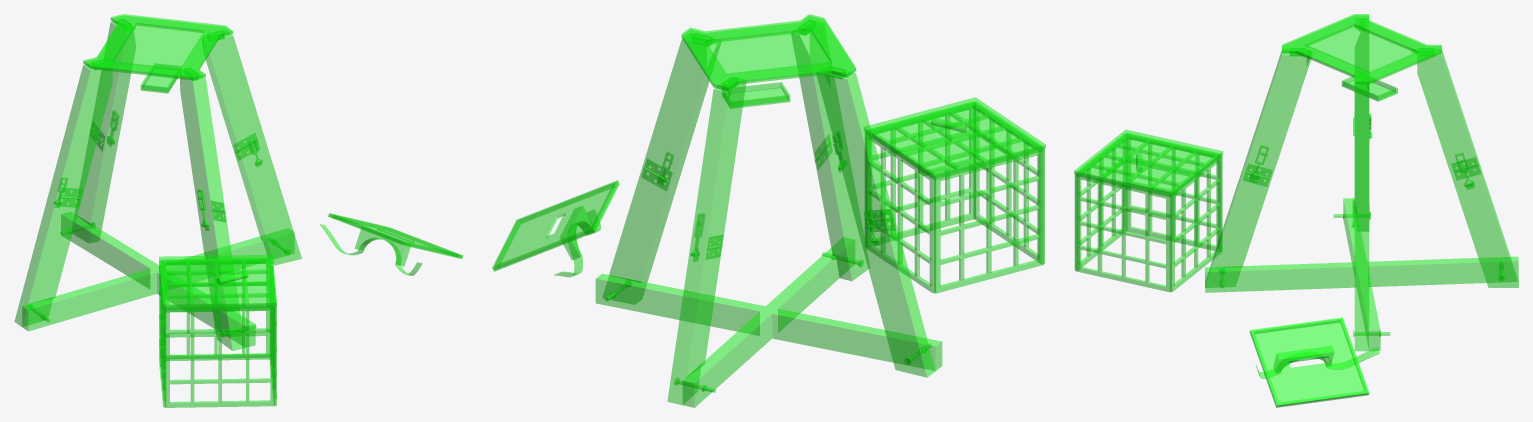
File: alec.glb
3 views of the same model, side by side, from view 1: azimuth 30°, elevation 25°; view 2: azimuth 150°, elevation 25°; view 3: azimuth 270°, elevation 25° (orthographic). The views are drawn at different scales.
Parts seen in each view (by area): view 1: ply, crate, d1854366-ecdb-4a84-81c8-51e3d519978d, 76a04a2c-8170-404c-9d7f-99efb4fca5f9, 99e77529-c2b8-48d0-abc9-7c0c0a538e59, be001d6a-c13a-4f7c-8af5-d5b3ada92719, 5b95803f-de43-4d44-ab4c-4a6e17fb4ca6, magnifying_sheet, everything_else, hinge_+_clamp_+_bolts, 8565a5d7-12cd-45e8-b316-61662c950a18; view 2: crate, d1854366-ecdb-4a84-81c8-51e3d519978d, ply, 76a04a2c-8170-404c-9d7f-99efb4fca5f9, 5b95803f-de43-4d44-ab4c-4a6e17fb4ca6, 99e77529-c2b8-48d0-abc9-7c0c0a538e59, be001d6a-c13a-4f7c-8af5-d5b3ada92719, 8565a5d7-12cd-45e8-b316-61662c950a18, magnifying_sheet, everything_else, hinge_+_clamp_+_bolts, magnets; view 3: crate, ply, d1854366-ecdb-4a84-81c8-51e3d519978d, be001d6a-c13a-4f7c-8af5-d5b3ada92719, 5b95803f-de43-4d44-ab4c-4a6e17fb4ca6, 8565a5d7-12cd-45e8-b316-61662c950a18, 99e77529-c2b8-48d0-abc9-7c0c0a538e59, everything_else, magnifying_sheet, 76a04a2c-8170-404c-9d7f-99efb4fca5f9, hinge_+_clamp_+_bolts.
Part boxes in pixels (x1,y1,x2,y2): ply: [83, 14, 276, 307]; crate: [159, 258, 276, 407]; d1854366-ecdb-4a84-81c8-51e3d519978d: [22, 212, 294, 347]; 76a04a2c-8170-404c-9d7f-99efb4fca5f9: [14, 64, 112, 326]; 99e77529-c2b8-48d0-abc9-7c0c0a538e59: [206, 33, 301, 265]; be001d6a-c13a-4f7c-8af5-d5b3ada92719: [180, 77, 245, 350]; 5b95803f-de43-4d44-ab4c-4a6e17fb4ca6: [73, 21, 135, 242]; magnifying_sheet: [113, 23, 203, 69]; everything_else: [320, 213, 463, 275]; hinge_+_clamp_+_bolts: [29, 110, 290, 337]; 8565a5d7-12cd-45e8-b316-61662c950a18: [329, 214, 461, 257]; crate: [865, 101, 1044, 293]; d1854366-ecdb-4a84-81c8-51e3d519978d: [595, 237, 942, 407]; ply: [681, 14, 1045, 177]; 76a04a2c-8170-404c-9d7f-99efb4fca5f9: [816, 72, 935, 377]; 5b95803f-de43-4d44-ab4c-4a6e17fb4ca6: [667, 82, 745, 404]; 99e77529-c2b8-48d0-abc9-7c0c0a538e59: [602, 38, 720, 304]; be001d6a-c13a-4f7c-8af5-d5b3ada92719: [791, 32, 869, 280]; 8565a5d7-12cd-45e8-b316-61662c950a18: [494, 182, 617, 269]; magnifying_sheet: [706, 29, 831, 74]; everything_else: [492, 180, 619, 277]; hinge_+_clamp_+_bolts: [605, 130, 931, 392]; magnets: [692, 20, 844, 91]; crate: [1074, 133, 1222, 292]; ply: [1074, 14, 1441, 195]; d1854366-ecdb-4a84-81c8-51e3d519978d: [1205, 198, 1518, 350]; be001d6a-c13a-4f7c-8af5-d5b3ada92719: [1205, 50, 1310, 287]; 5b95803f-de43-4d44-ab4c-4a6e17fb4ca6: [1412, 50, 1518, 287]; 8565a5d7-12cd-45e8-b316-61662c950a18: [1251, 319, 1367, 406]; 99e77529-c2b8-48d0-abc9-7c0c0a538e59: [1354, 83, 1369, 351]; everything_else: [1249, 317, 1379, 407]; magnifying_sheet: [1306, 25, 1417, 72]; 76a04a2c-8170-404c-9d7f-99efb4fca5f9: [1355, 27, 1368, 231]; hinge_+_clamp_+_bolts: [1219, 113, 1504, 336].
Size of the model in its own units: 1383 by 805 by 1368.
